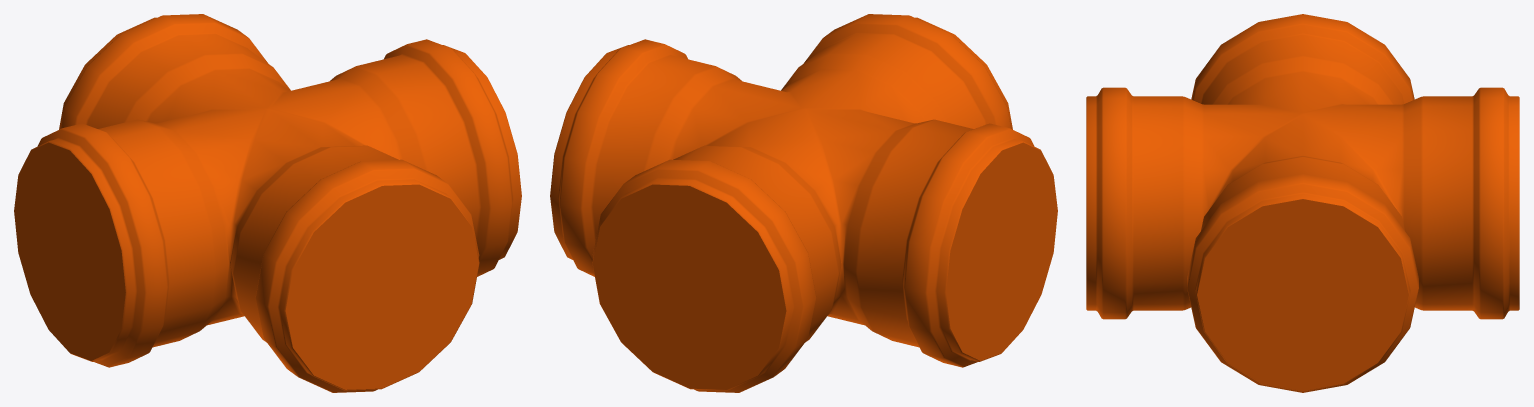
The model's file is PVC_D160_T90X4.FBX.
The picture shows the model from 3 angles, left to right: view 1: azimuth 30°, elevation 25°; view 2: azimuth 150°, elevation 25°; view 3: azimuth 270°, elevation 25°; orthographic projection. The views are drawn at different scales.
Parts seen in each view (by area): view 1: PVC_D160_T90X4; view 2: PVC_D160_T90X4; view 3: PVC_D160_T90X4.
Boxes of the visible parts, bbox=[...] form: PVC_D160_T90X4: bbox=[14, 14, 521, 392]; PVC_D160_T90X4: bbox=[550, 14, 1057, 392]; PVC_D160_T90X4: bbox=[1086, 14, 1519, 392].
Size of the model in its own units: 35 by 18.74 by 35.01.
